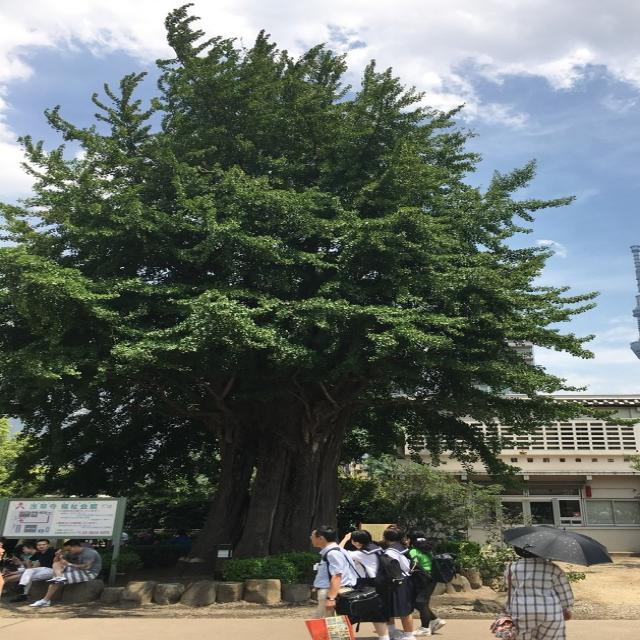ginkgo: (0, 3, 603, 580)
